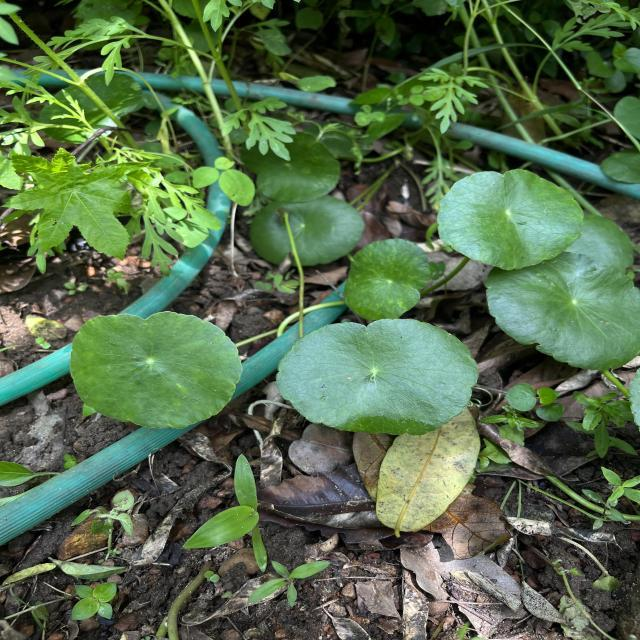Bacopa monnieri: (274, 316, 481, 436), (68, 310, 245, 430), (483, 248, 640, 372), (434, 167, 586, 272), (248, 192, 366, 267), (342, 236, 432, 322)
